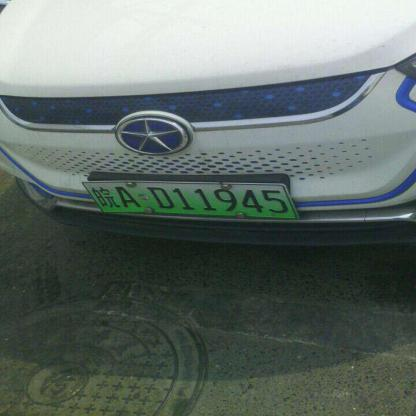lp: (83, 181, 297, 217)
